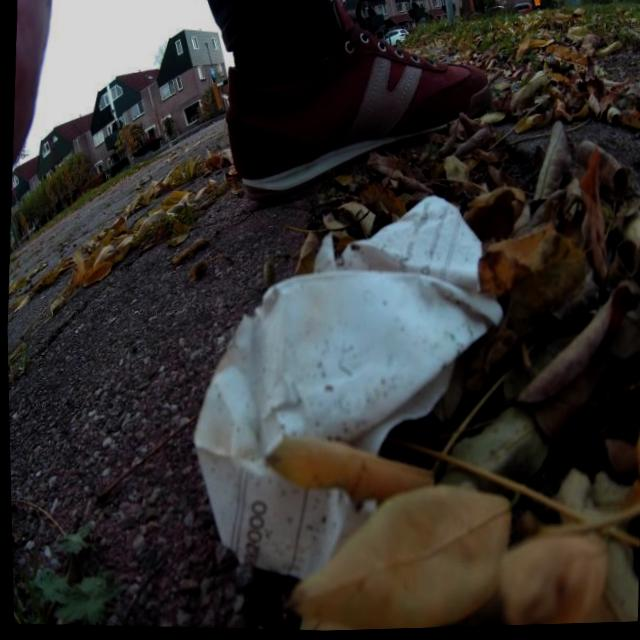Paper: (175, 177, 515, 601)
